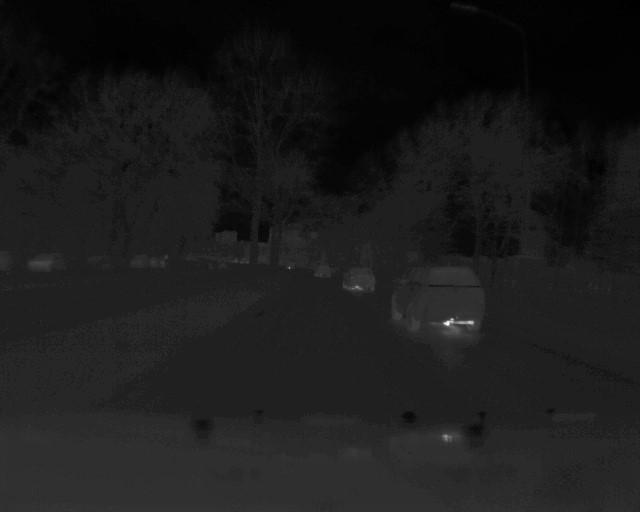car: (389, 265, 488, 334), (340, 266, 376, 292)
